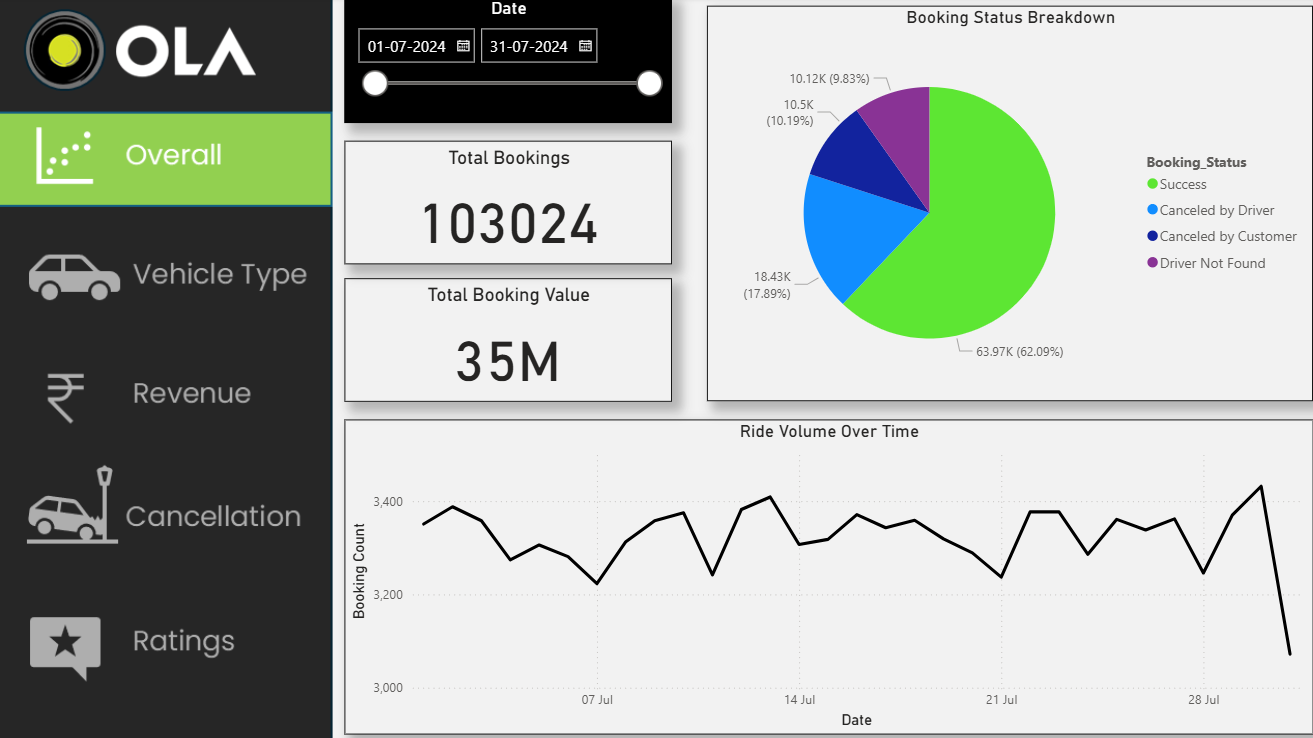

The page's visual inventory and layout, read from the dashboard file:
{"tool":"powerbi","page":{"name":"Overall","canvas":[1280,720],"ordinal":0},"visuals":[{"type":"actionButton","box":[0,225.6,324.5,91.7],"z":0},{"type":"lineChart","title":"Ride Volume Over Time","fields":{"Y":["CountNonNull(July.Booking_ID)"],"Category":["July.Date"]},"box":[335.4,407.8,935,304],"z":1000},{"type":"pieChart","title":"Booking Status Breakdown","fields":{"Category":["July.Booking_Status"],"Y":["CountNonNull(July.Booking_Status)"]},"box":[685.3,8.4,585.1,381.2],"z":2000},{"type":"slicer","title":"Date","fields":{"Values":["July.Date"]},"box":[335.4,0,316.1,121.9],"z":3000},{"type":"card","title":"Total Bookings","fields":{"Values":["CountNonNull(July.Booking_ID)"]},"box":[335.4,138.7,316.1,119.4],"z":4000},{"type":"card","title":"Total Booking Value","fields":{"Values":["Sum(July.Booking_Value)"]},"box":[334.8,271.7,315.6,119.4],"z":5000}]}

Visuals, with their boxes in screenshot pixels (x1, y1, x2, y2), scaled from the page's 1280x720 canvas onto the 1313x738 screenshot:
actionButton: crop(0, 231, 333, 325)
"Ride Volume Over Time" lineChart: crop(344, 418, 1303, 730)
"Booking Status Breakdown" pieChart: crop(703, 9, 1303, 399)
"Date" slicer: crop(344, 0, 668, 125)
"Total Bookings" card: crop(344, 142, 668, 265)
"Total Booking Value" card: crop(343, 278, 667, 401)
